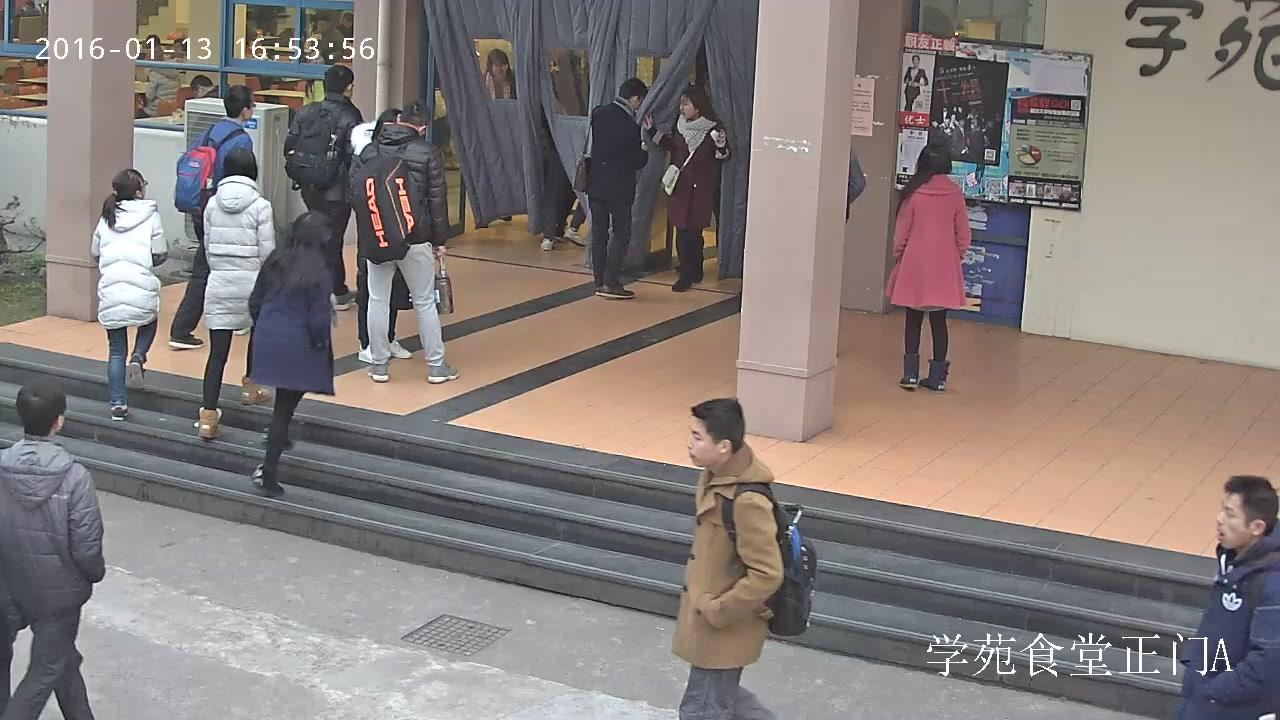person: (671, 397, 815, 720), (0, 381, 105, 720), (348, 102, 458, 383), (1173, 475, 1280, 720), (248, 211, 334, 495), (198, 149, 276, 437), (169, 85, 252, 349), (884, 142, 969, 390), (91, 168, 167, 420), (283, 65, 360, 309), (645, 86, 731, 292), (349, 108, 414, 362), (584, 78, 649, 298), (481, 49, 516, 220), (540, 110, 568, 252), (141, 42, 180, 116), (303, 13, 346, 65), (903, 55, 927, 112)
